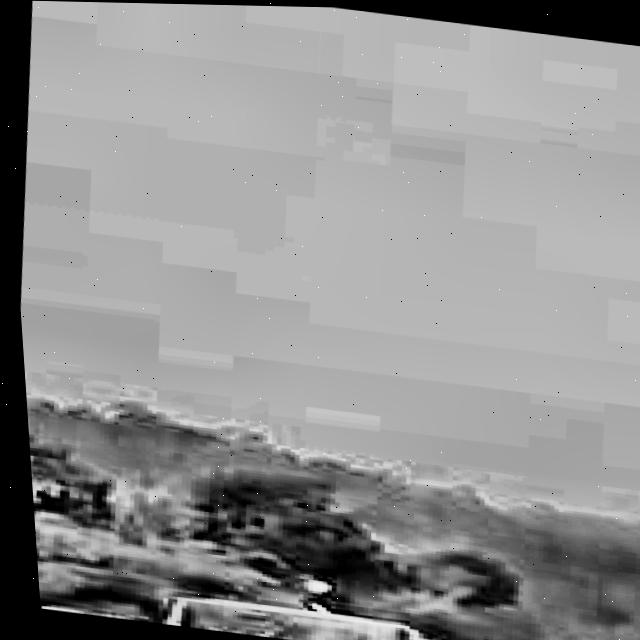Gerbong: (161, 587, 444, 640)
Lokomotif: (470, 622, 588, 640)
